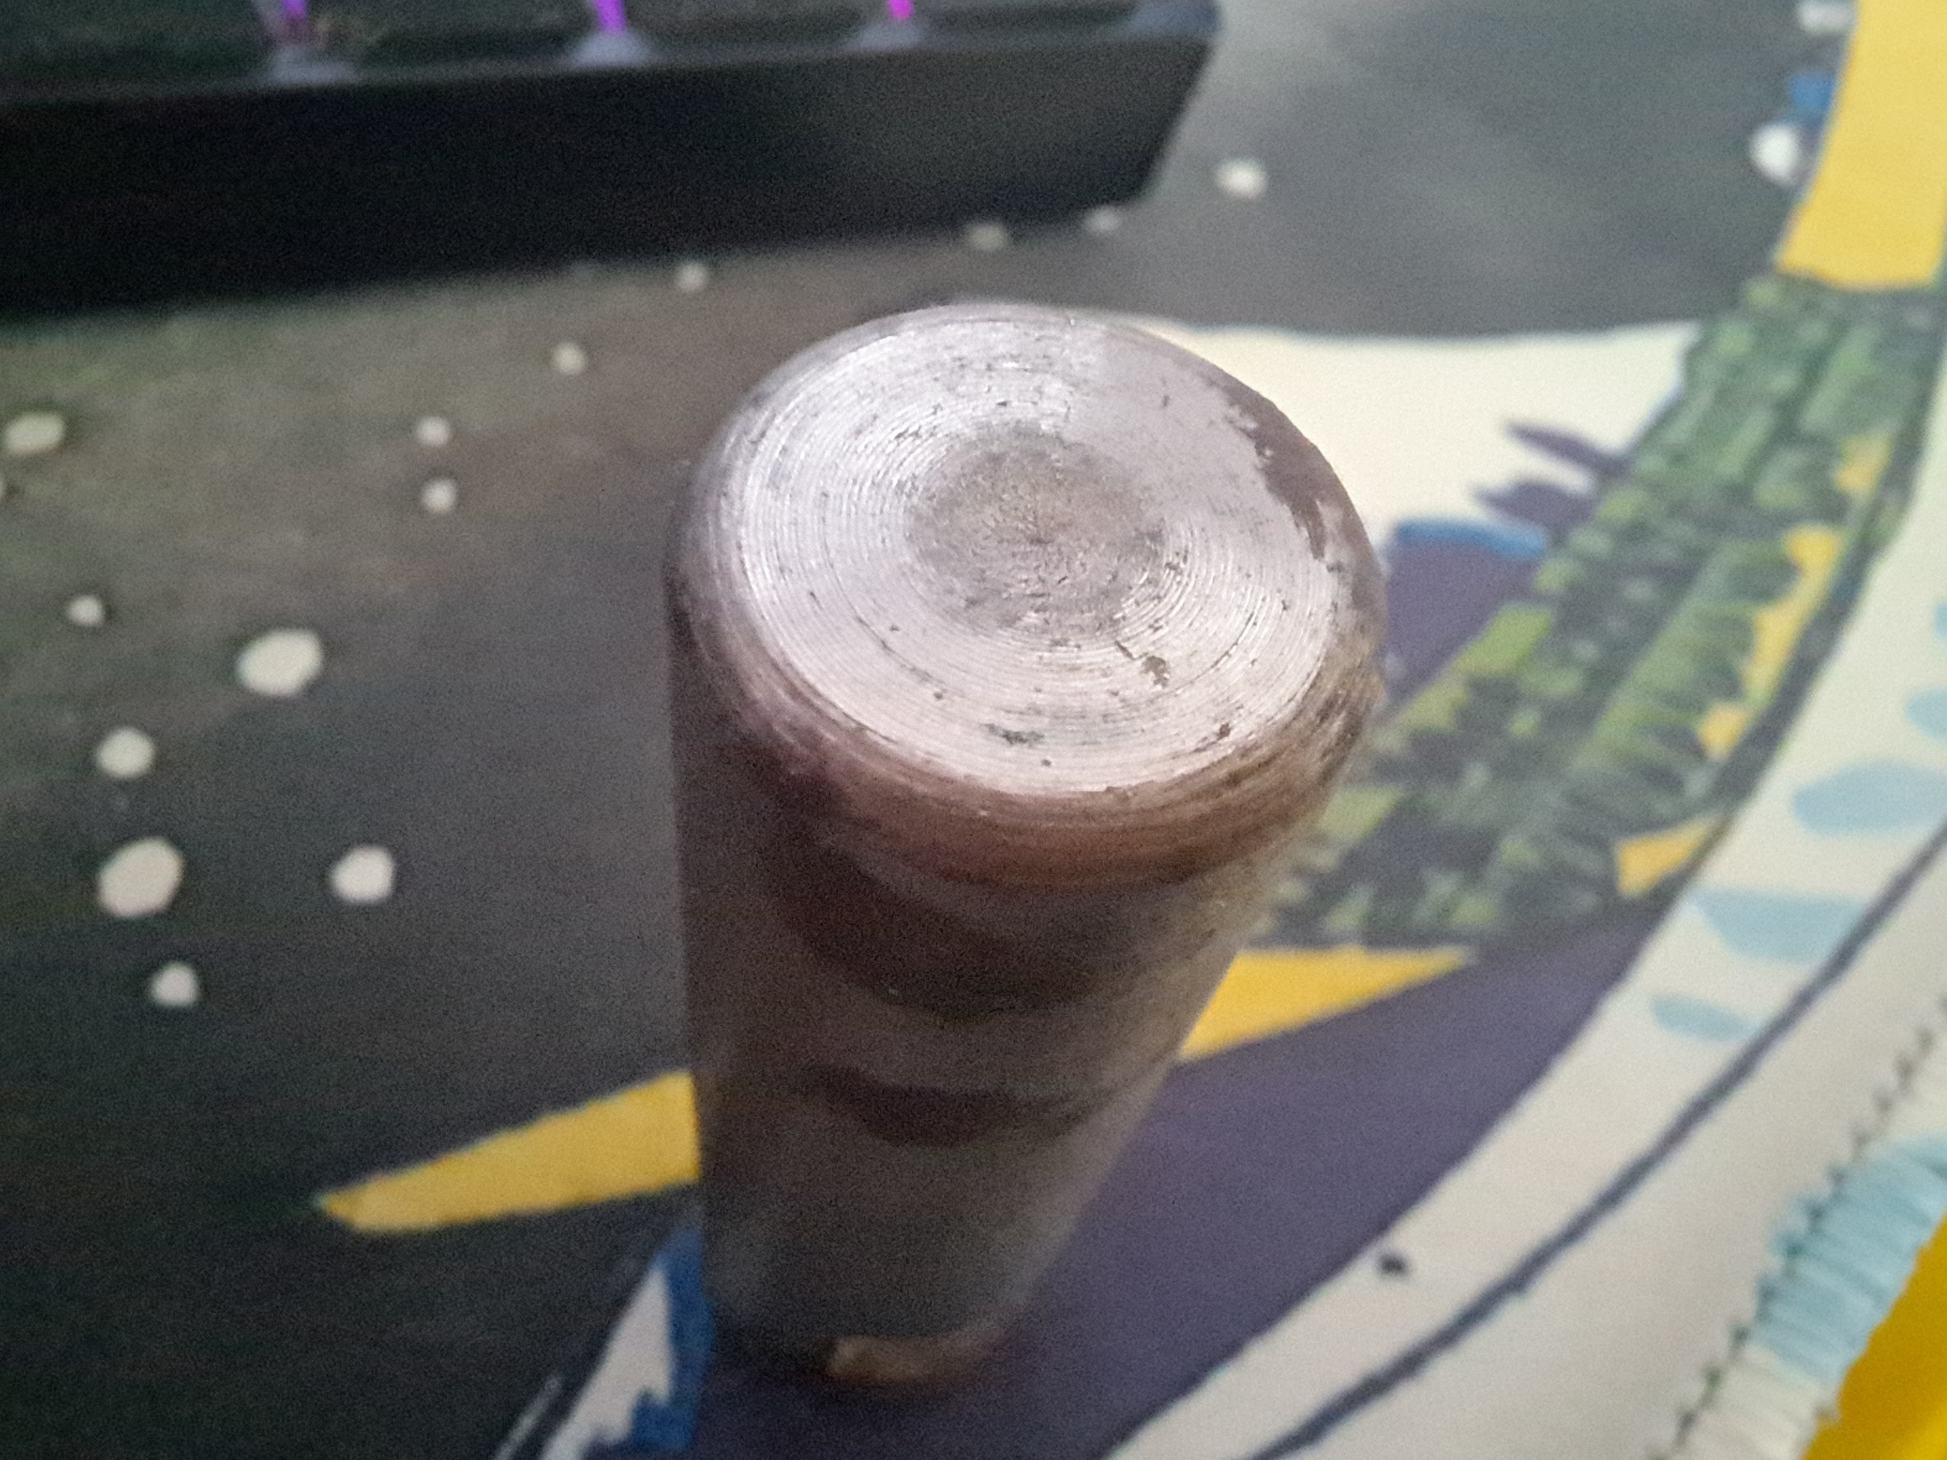плансон: (665, 302, 1387, 1460)
